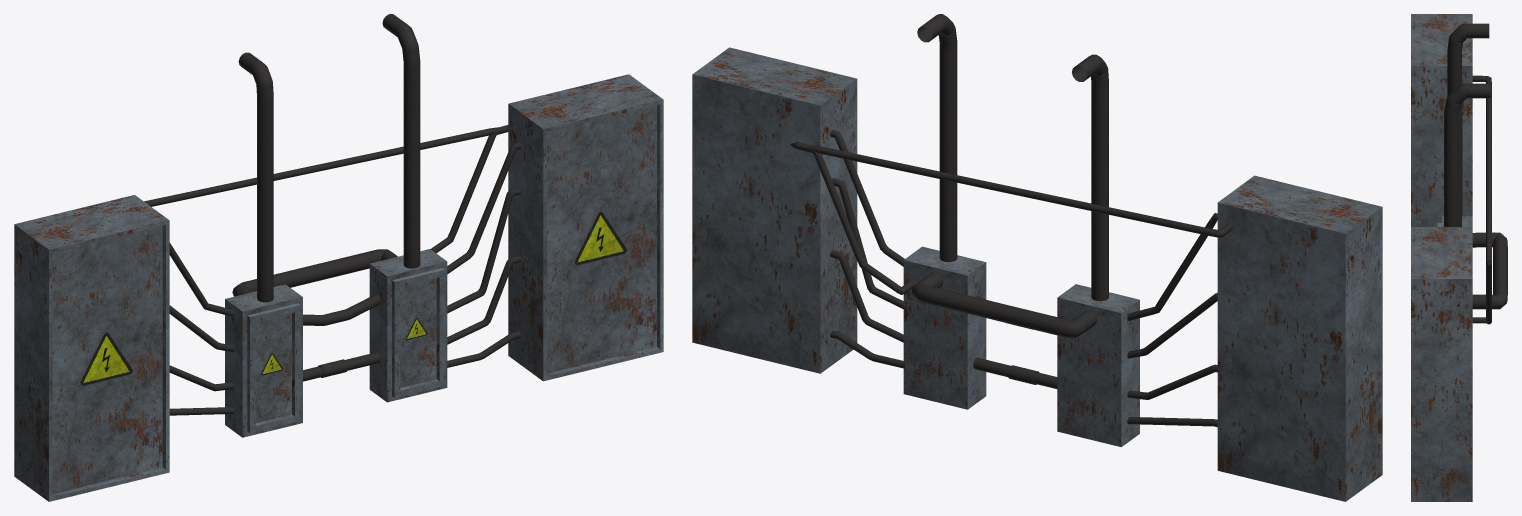
The model's file is low_poly_electrical_panel.glb.
The picture shows the model from 3 angles, left to right: view 1: azimuth 30°, elevation 25°; view 2: azimuth 150°, elevation 25°; view 3: azimuth 270°, elevation 25°; orthographic projection. The views are drawn at different scales.
Visible parts, largest first — view 1: Cube.001, Cube.004, NurbsPath.001, Cube.002, Cube.003, NurbsPath, NurbsPath.002; view 2: Cube.001, Cube.004, NurbsPath.001, NurbsPath, Cube.003, Cube.002, NurbsPath.002; view 3: Cube.004, Cube.001, NurbsPath.001, NurbsPath, Cube.003.
Boxes of the visible parts, box(x1,y1,x2,y2) form: Cube.001: box(14, 195, 169, 501); Cube.004: box(508, 74, 663, 381); NurbsPath.001: box(232, 14, 420, 302); Cube.002: box(369, 249, 447, 402); Cube.003: box(225, 284, 302, 437); NurbsPath: box(144, 125, 520, 415); NurbsPath.002: box(303, 294, 380, 381); Cube.001: box(1217, 175, 1382, 501); Cube.004: box(692, 47, 857, 373); NurbsPath.001: box(911, 14, 1108, 337); NurbsPath: box(790, 130, 1232, 427); Cube.003: box(1057, 284, 1139, 447); Cube.002: box(903, 246, 986, 409); NurbsPath.002: box(973, 295, 1057, 388); Cube.004: box(1411, 227, 1472, 501); Cube.001: box(1411, 14, 1472, 226); NurbsPath.001: box(1444, 23, 1507, 309); NurbsPath: box(1462, 75, 1491, 324); Cube.003: box(1437, 216, 1472, 226).
Size of the model in its own units: 5.1 by 2.86 by 0.7864.
4 materials, 4 textured.
